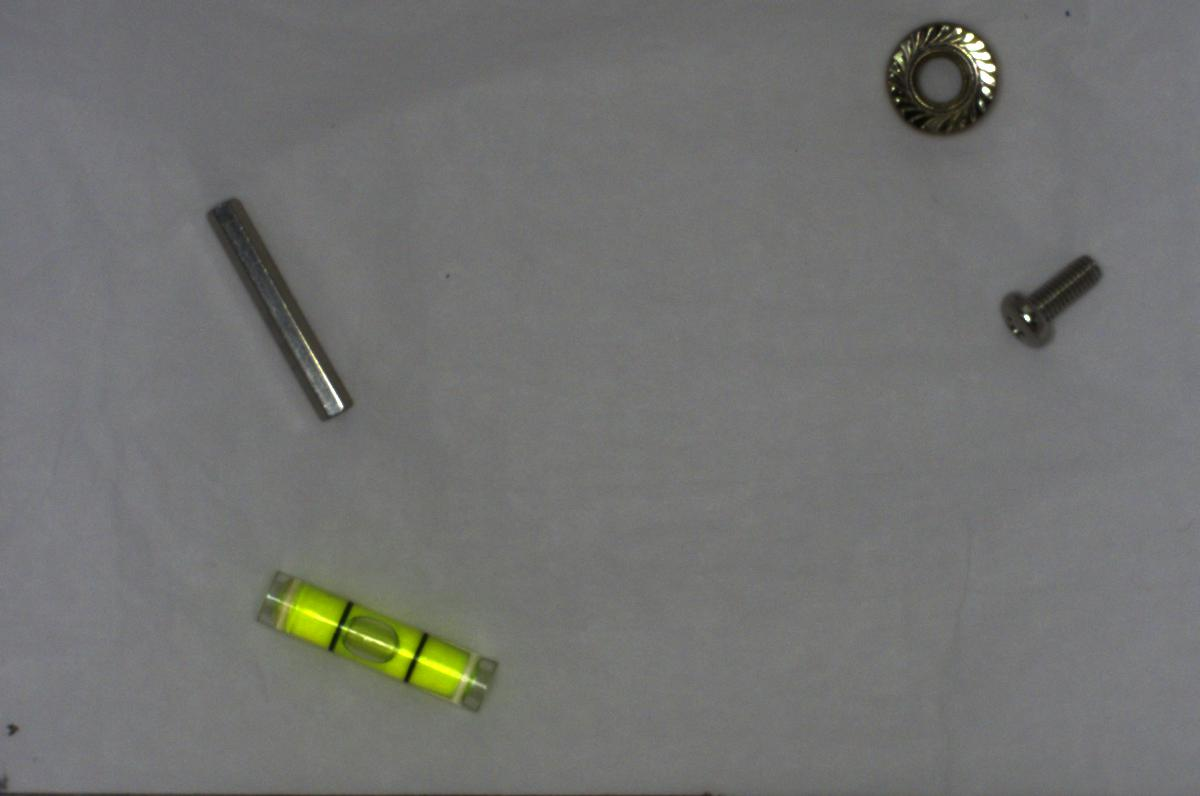Double hexagonal column: (205, 187, 353, 427)
Flange nut: (873, 18, 1005, 145)
Horizontal bubble: (251, 570, 500, 712)
Round head screw: (998, 246, 1106, 352)
